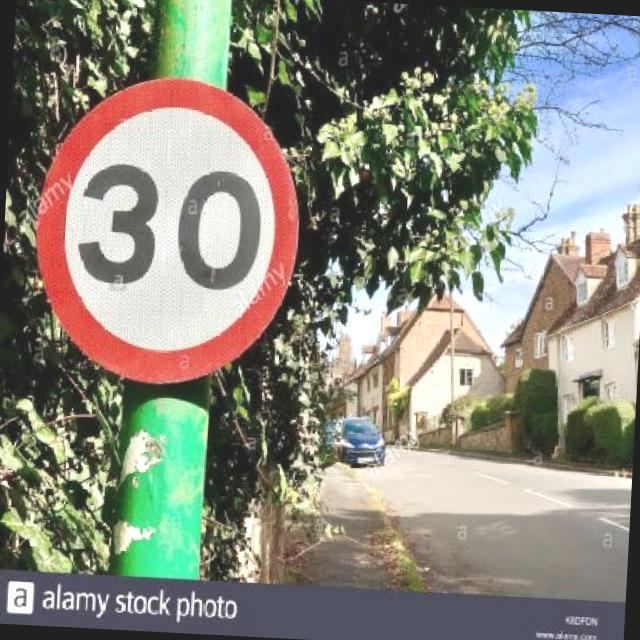Ograniczenie predkosci do 30: (27, 68, 307, 384)
